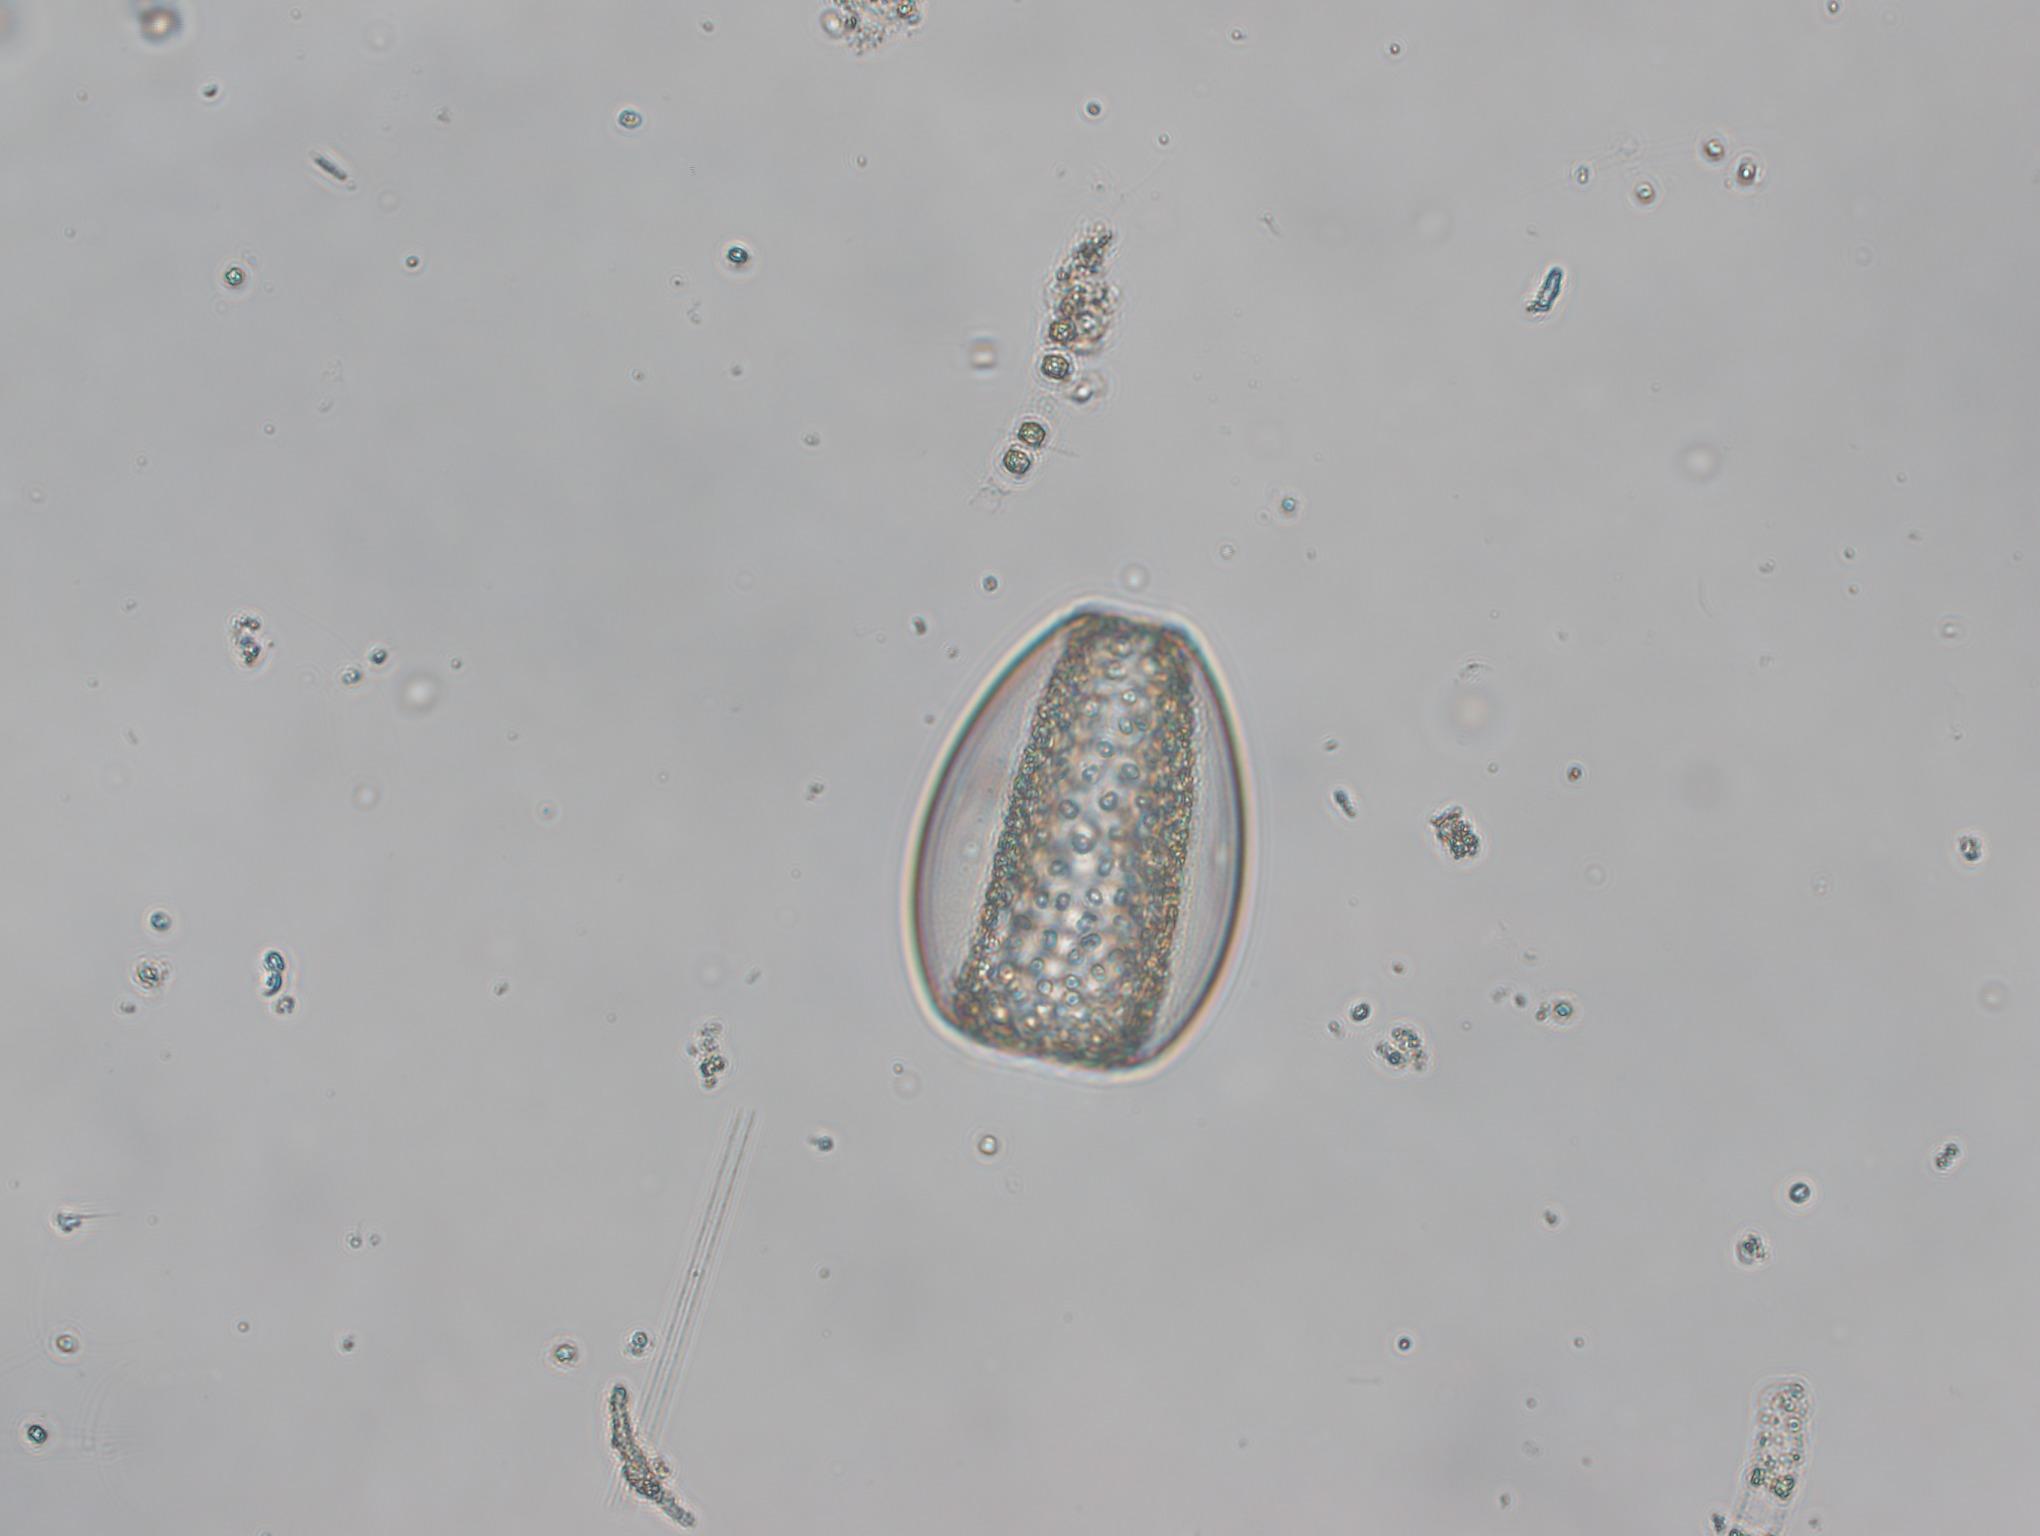chaetoceros: (968, 352, 1084, 523)
coscinodiscus flank: (906, 595, 1250, 1081)
